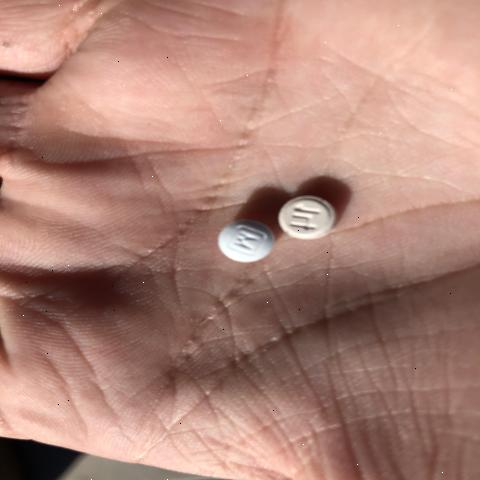Pill: (208, 206, 275, 276), (282, 178, 352, 243)
